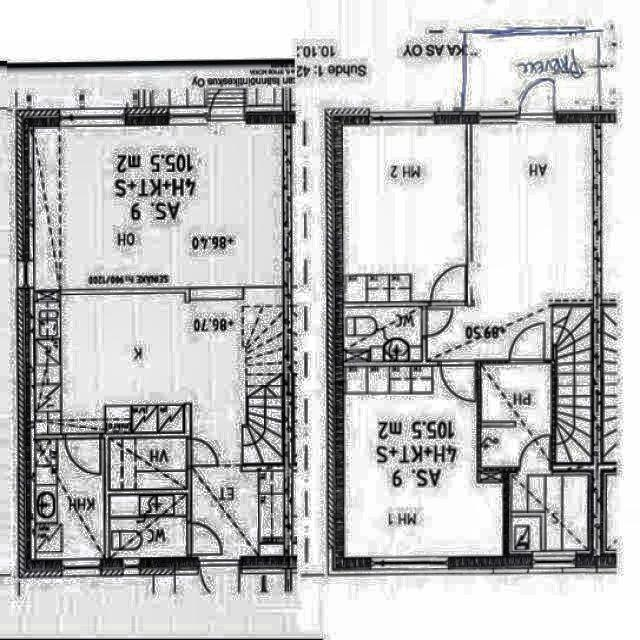room: (344, 367, 503, 557), (343, 124, 466, 301), (35, 439, 104, 559), (481, 364, 550, 467), (509, 472, 591, 553), (109, 495, 186, 557), (343, 307, 422, 361), (110, 439, 186, 489)
